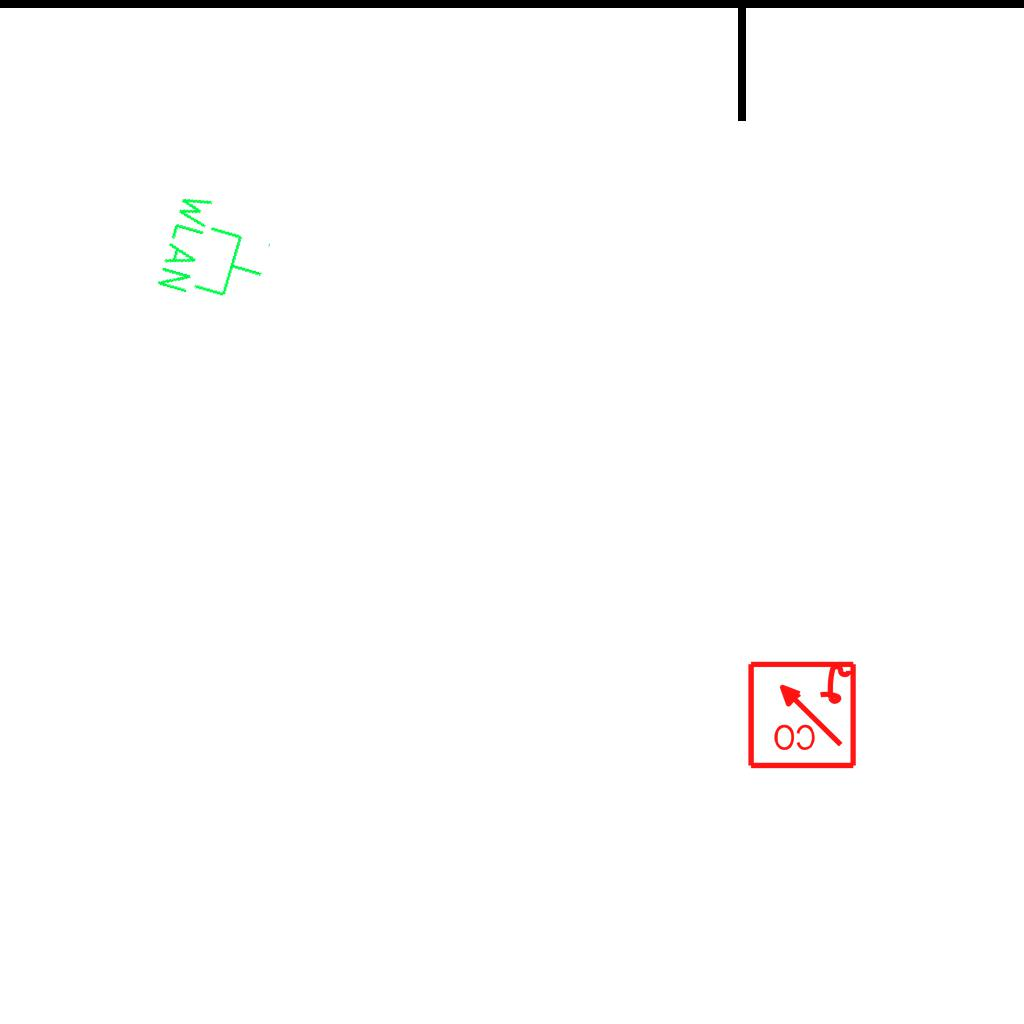ROA_Rauchmelder_optisch_mit_Signalgeber_(Sockelsirene): (745, 657, 858, 770)
WLAN: (152, 186, 282, 317)
